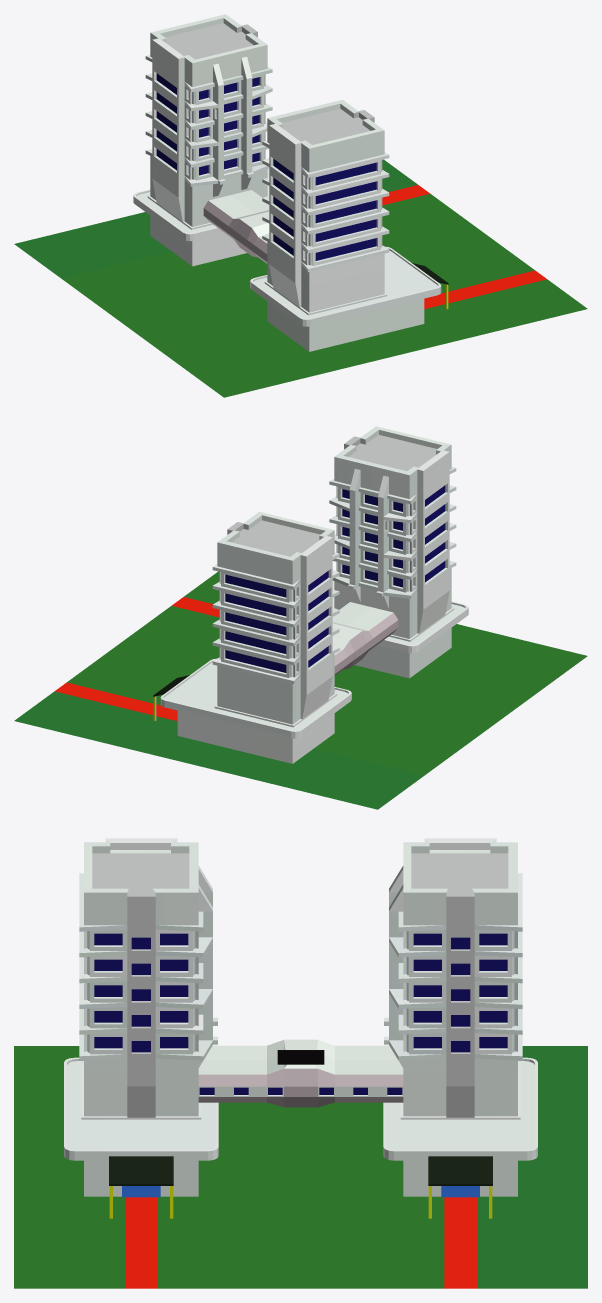
The model's file is 4 Motel.fbx.
The picture shows the model from 3 angles, top to bottom: view 1: azimuth 30°, elevation 25°; view 2: azimuth 150°, elevation 25°; view 3: azimuth 270°, elevation 25°; orthographic projection. The views are drawn at different scales.
Parts seen in each view (by area): view 1: Cube.007, Plane.001; view 2: Cube.007, Plane.001; view 3: Cube.007, Plane.001.
Boxes of the visible parts, left/top/right/bottom form: Cube.007: left=133, top=14, right=448, bottom=351; Plane.001: left=14, top=159, right=587, bottom=397; Cube.007: left=153, top=426, right=468, bottom=763; Plane.001: left=14, top=571, right=587, bottom=809; Cube.007: left=64, top=838, right=537, bottom=1218; Plane.001: left=14, top=1046, right=587, bottom=1288.
Bounding box in the file's own units: 1002 × 535 × 1002.
